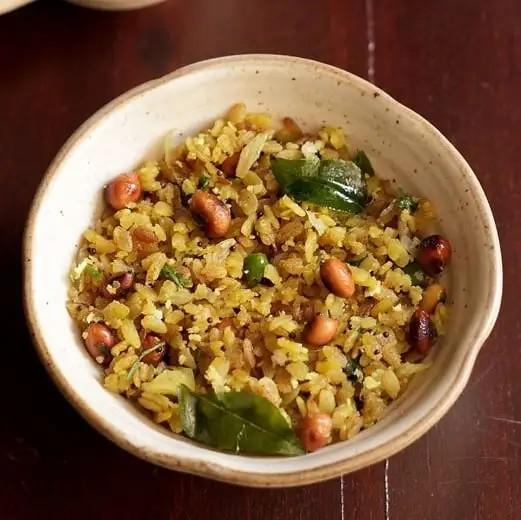Poha: (68, 100, 456, 452)
